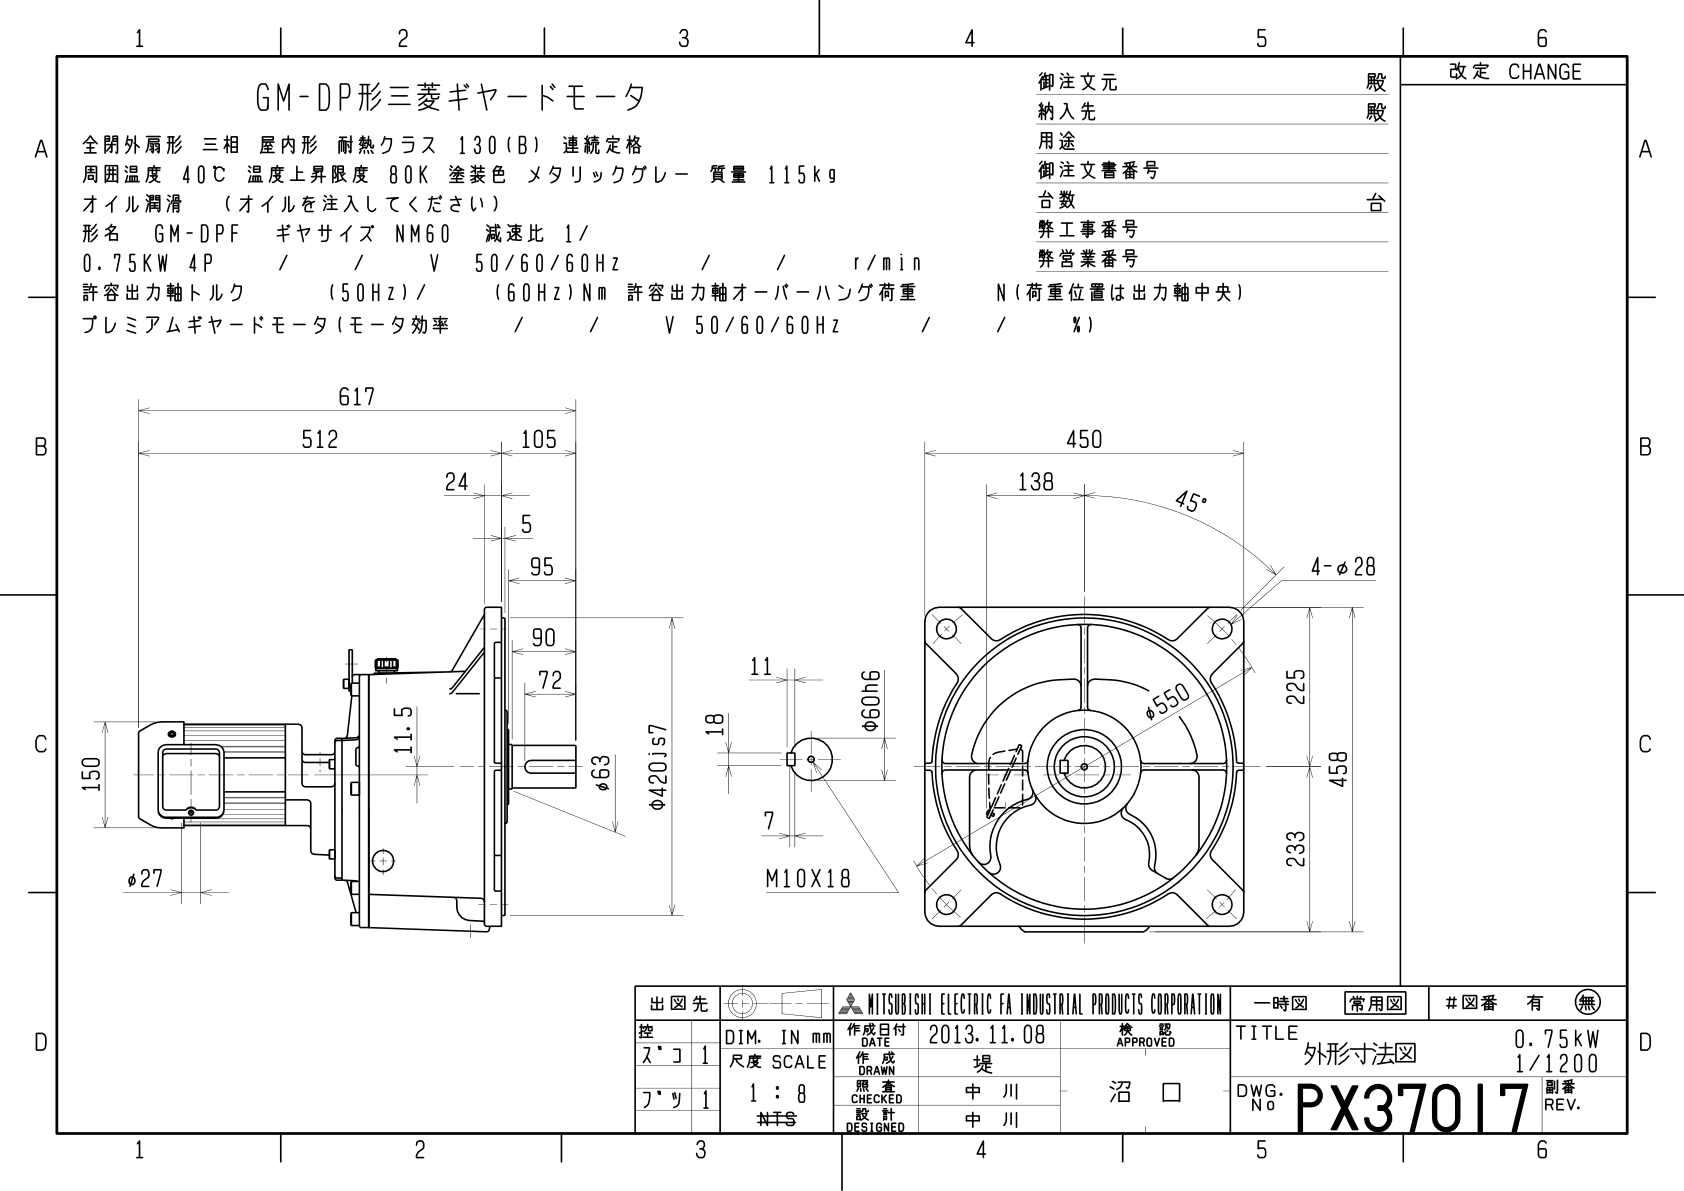GM_DP_屋内_三相_フランジ: (67, 351, 1389, 956)
